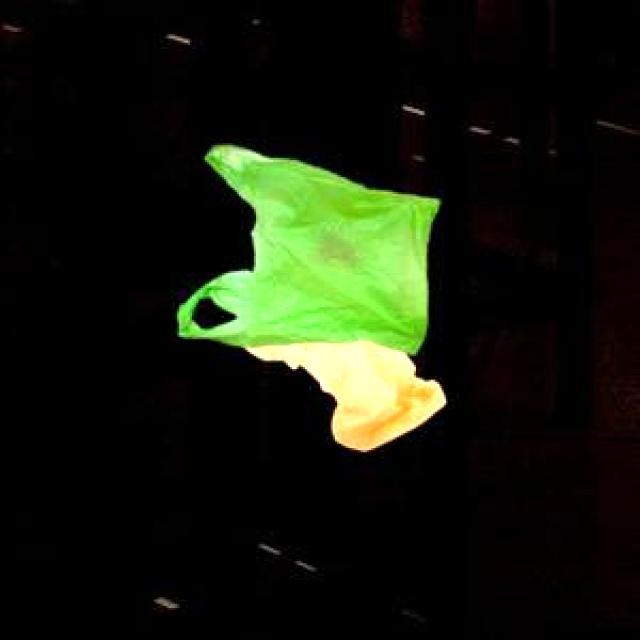Plastic_Bag: (174, 142, 436, 351), (244, 336, 443, 447)
